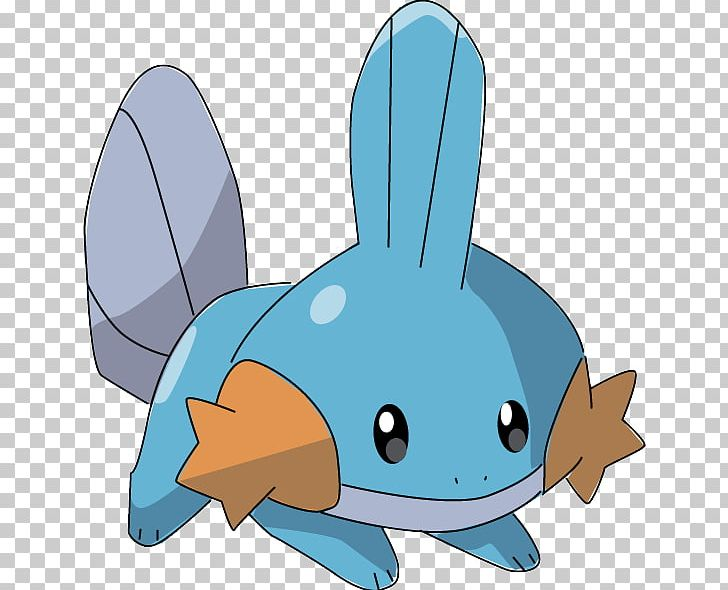mudkip: (77, 1, 670, 580)
